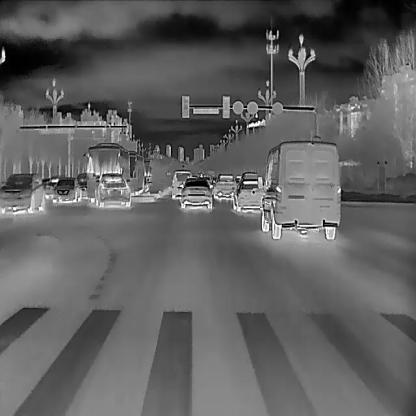car: (260, 139, 341, 240), (82, 143, 127, 197), (0, 173, 44, 215), (95, 173, 130, 209), (179, 176, 214, 209), (231, 179, 264, 213), (124, 149, 144, 195), (52, 178, 80, 204), (211, 174, 237, 201), (170, 170, 192, 198), (44, 176, 66, 199), (237, 172, 261, 193)
crosswalk: (2, 296, 416, 416)
